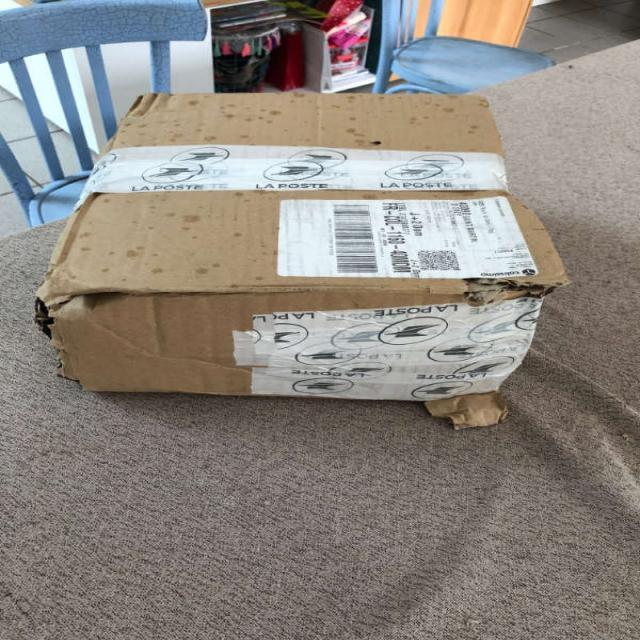hole: (459, 269, 555, 309), (29, 291, 66, 343)
